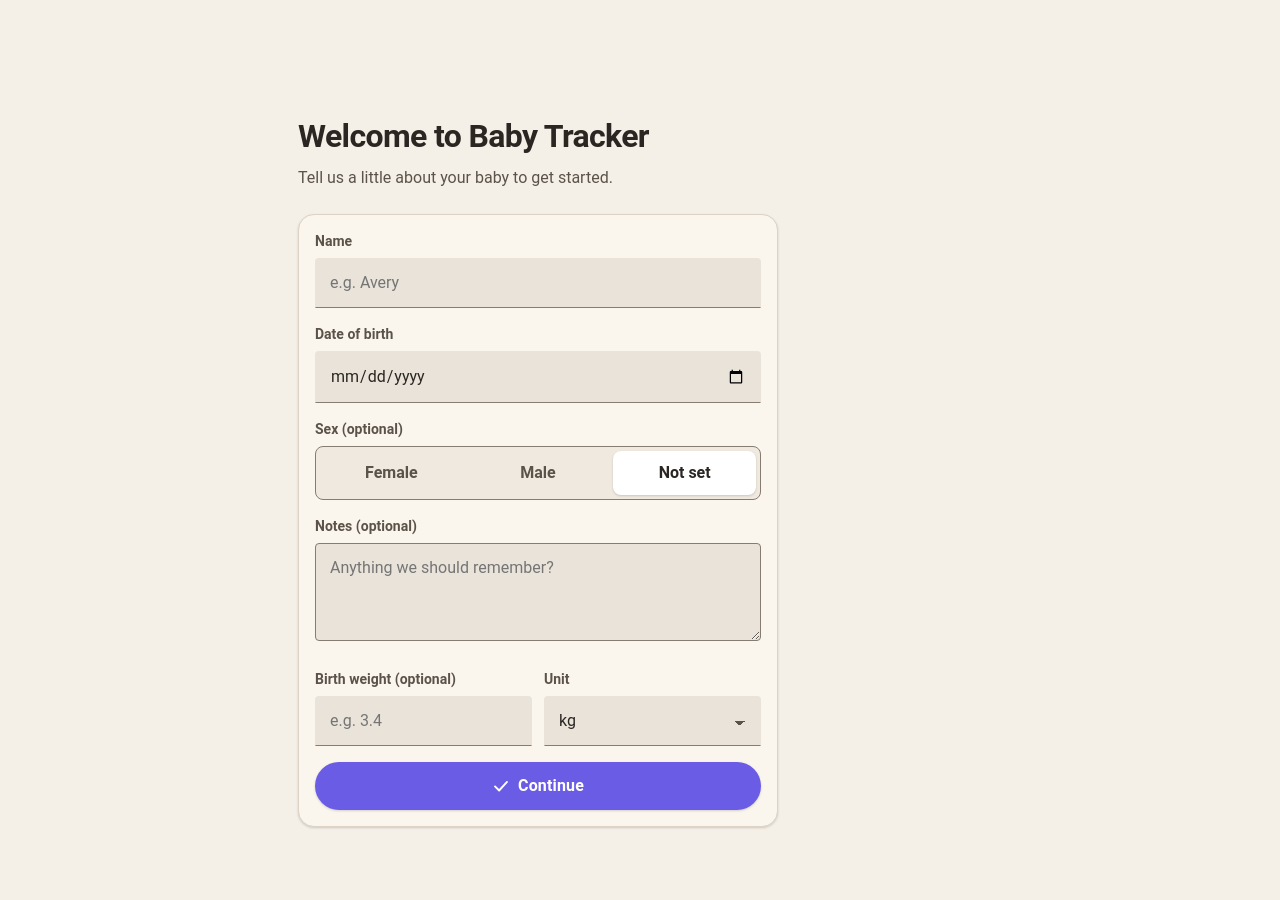
Test: Growth chart zoom modal › shows the expandable point info when the chart is tapped
The width and height of the screenshot is (1280, 900).
In the field labelled "Name": (538,283) [315,258,761,308], type "Avery"
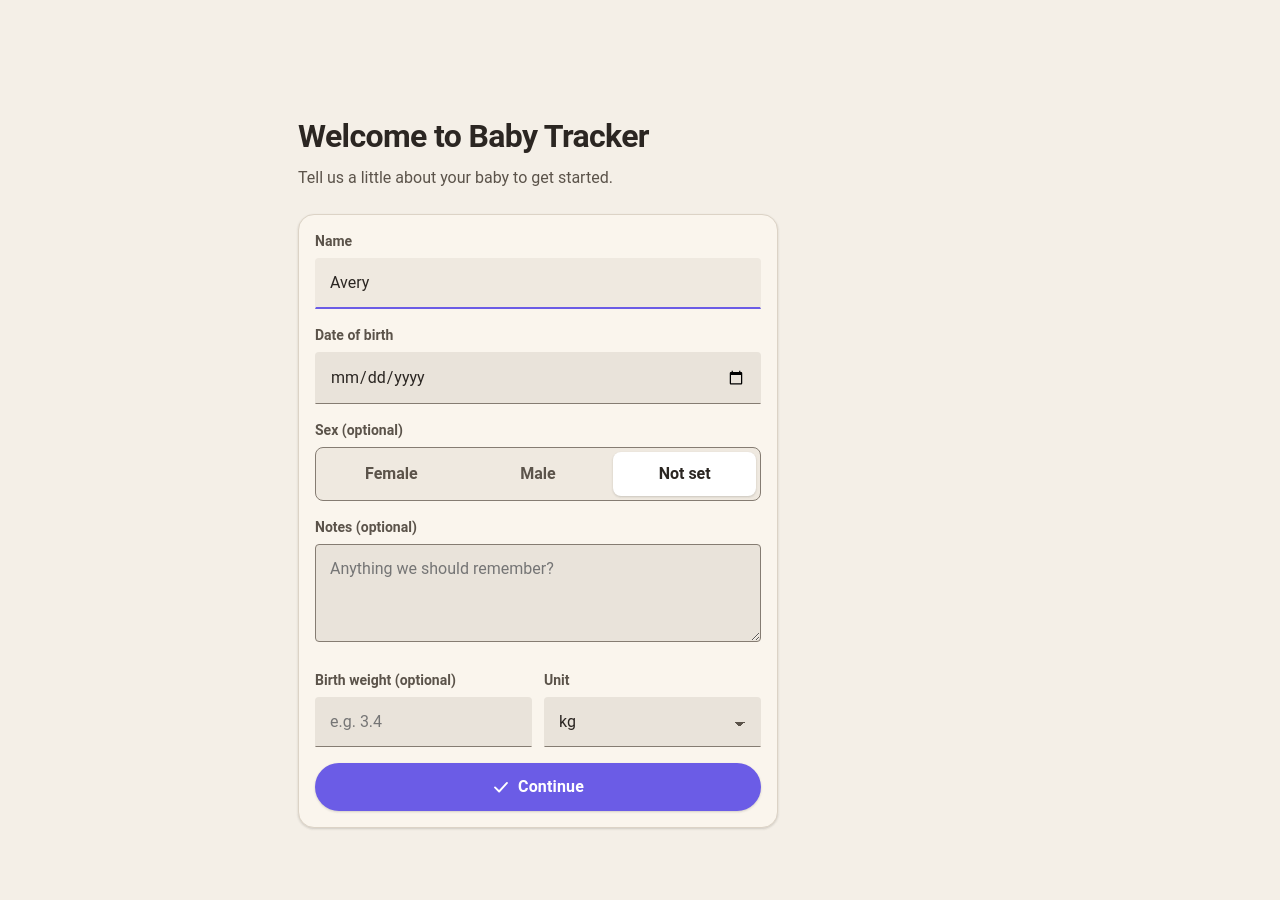
In the date field labelled "Date of birth": (538,378) [315,352,761,404], type "2026-01-15"
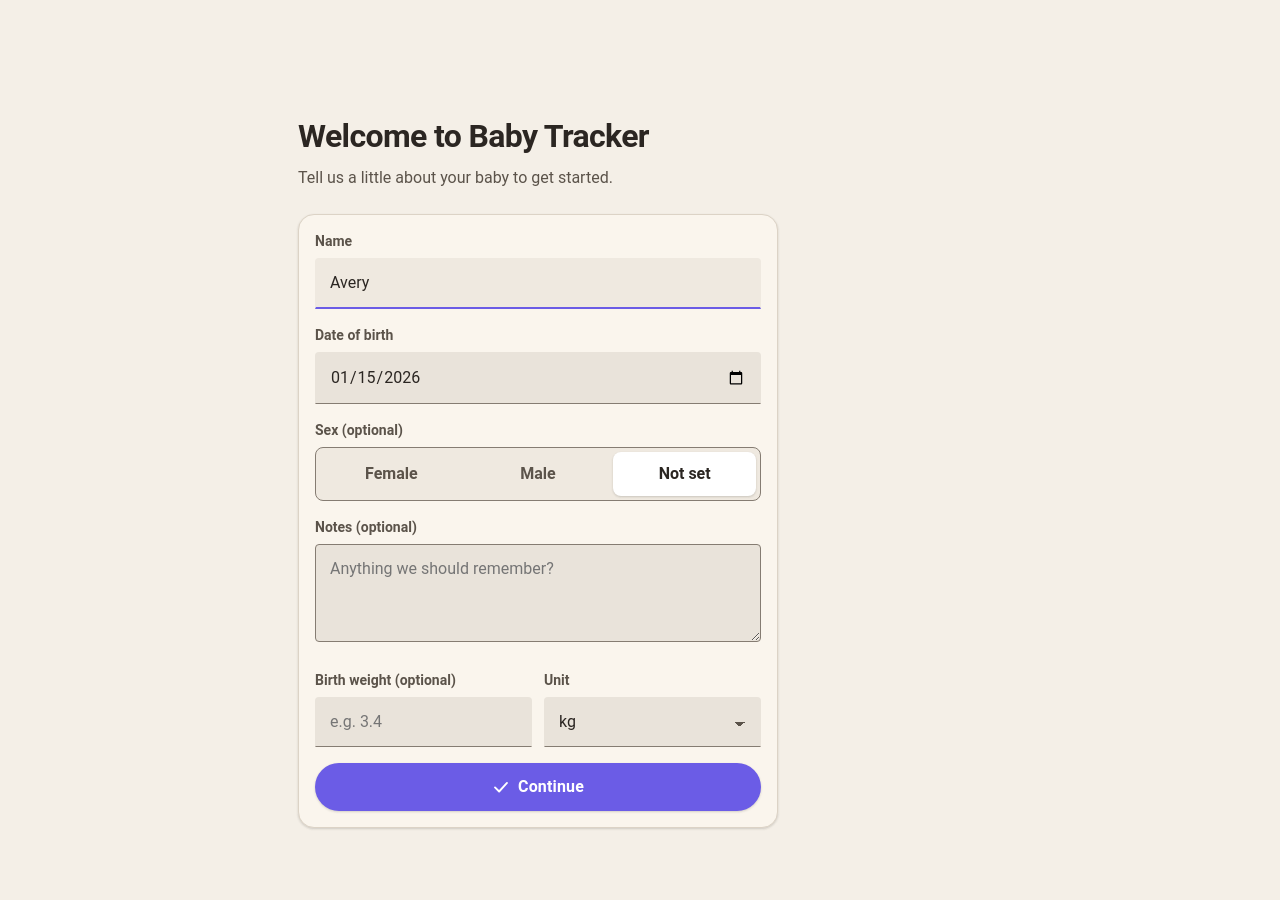
Click the button "Continue": (538,787) [315,763,761,811]
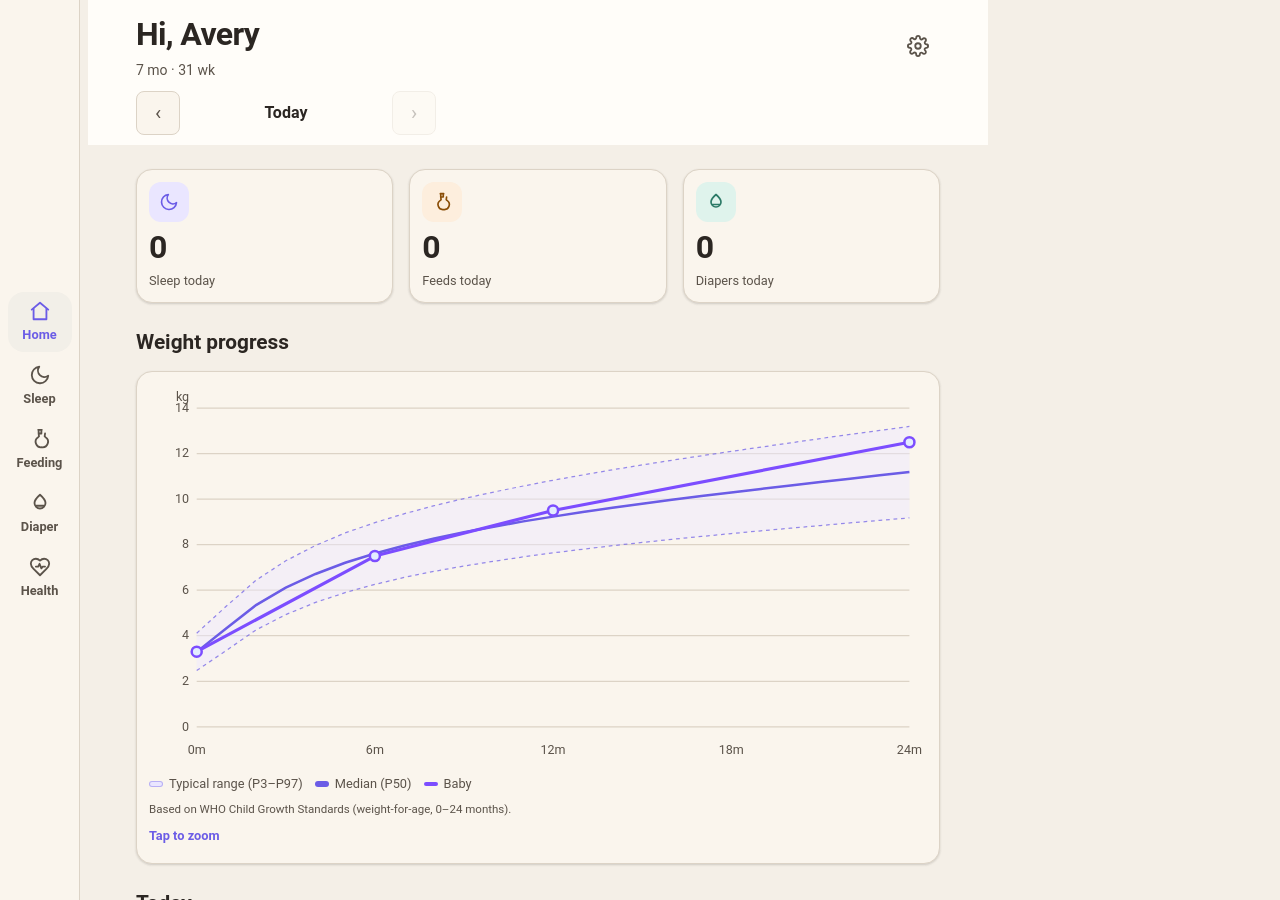
Click the button with aria-label "open weight chart zoom": (538,835) [136,371,940,864]
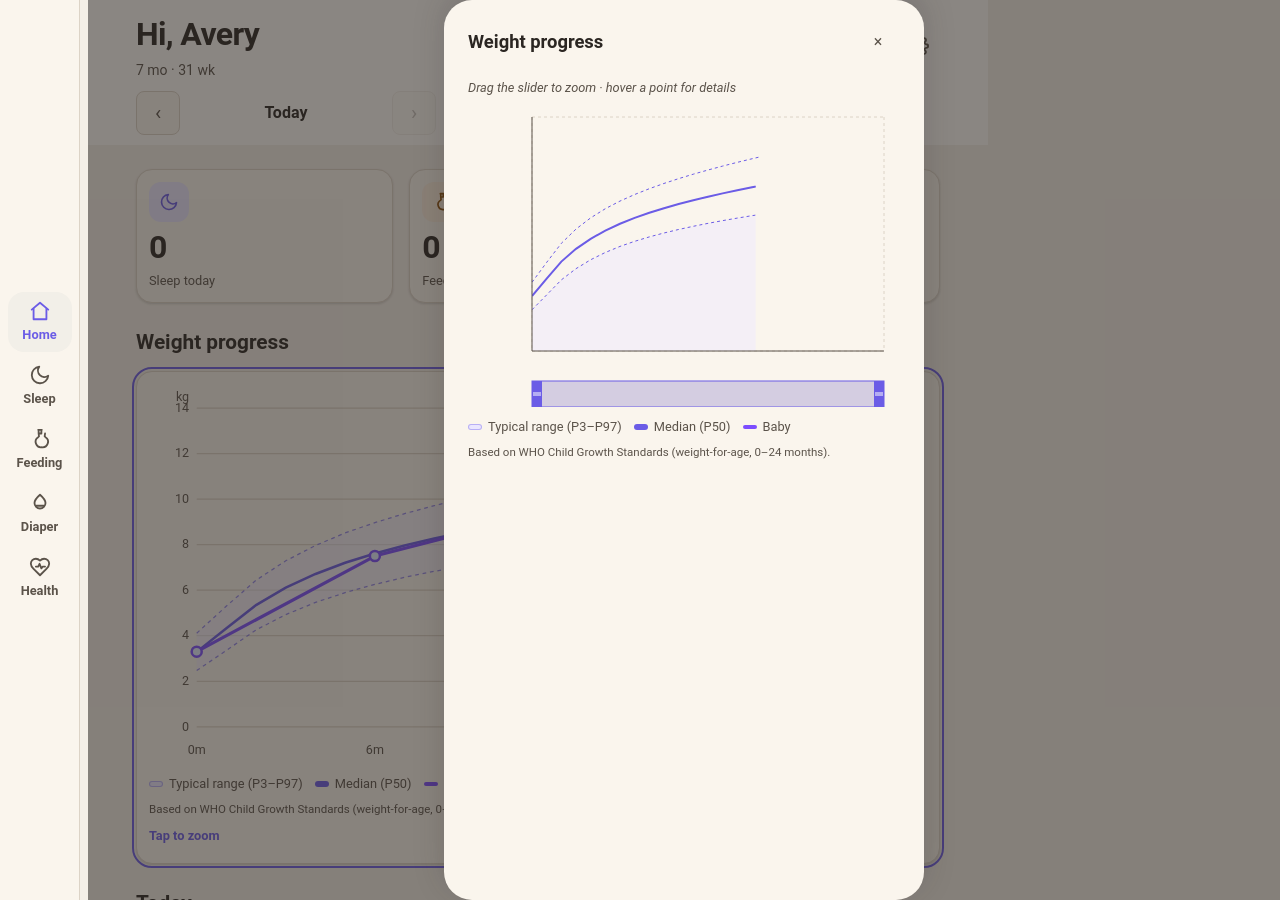
Result: the dialog "Weight progress" is shown at [444,0,924,899]
Result: the text "Drag the slider to zoom · hover a point for details" is shown at [468,80,736,95]
